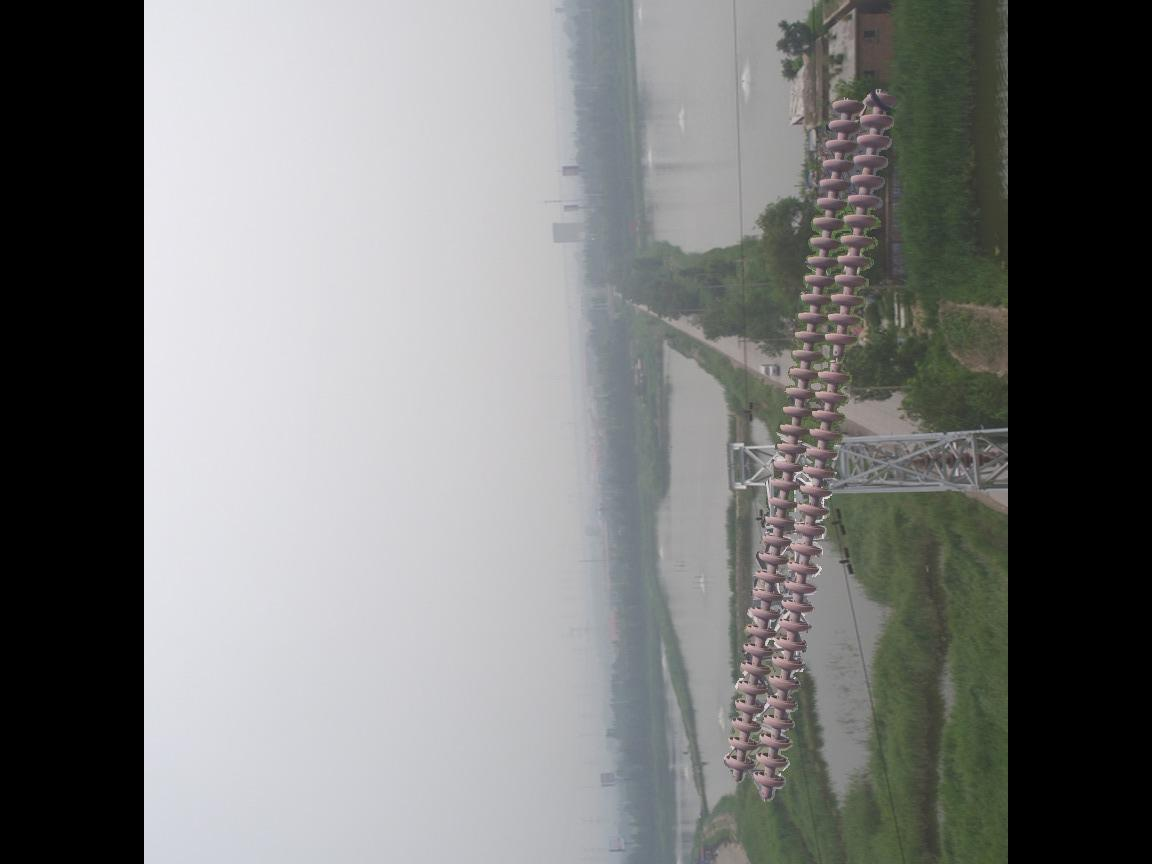insulator: (720, 85, 901, 802)
insulator_stringdrop: (814, 331, 861, 386)
